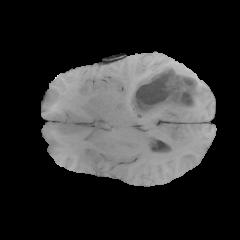glioma: (130, 63, 198, 115)
